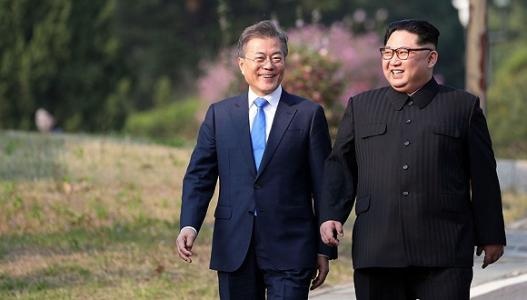no_mask: (376, 21, 443, 91), (233, 19, 289, 93)
